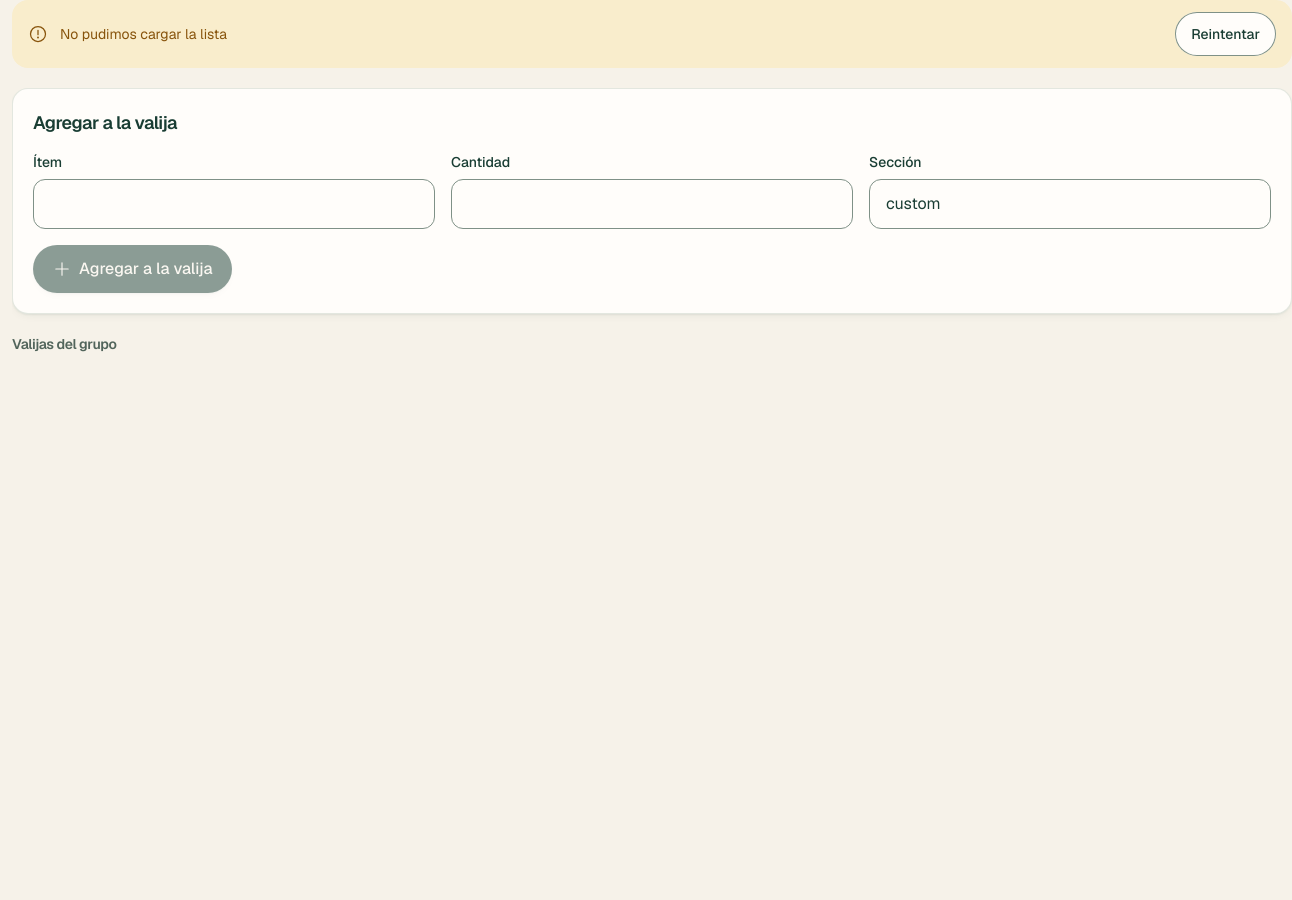
it: shows an inline error with a retry when the packing list fails
Expected: the message shows "No pudimos cargar la lista", [60,25,227,43]
Click the button "Reintentar".
click(1226, 34)  # box [1175,12,1276,56]
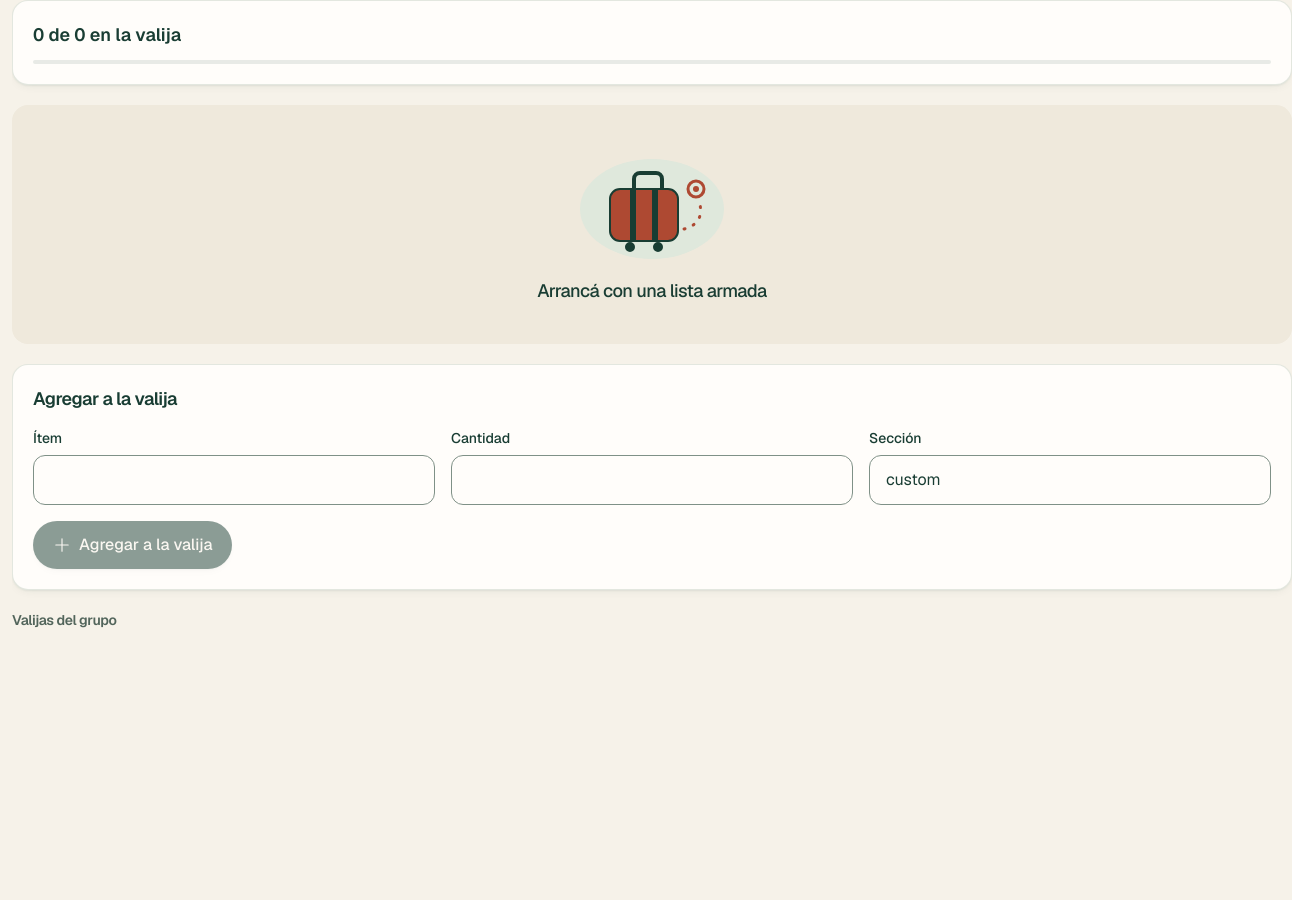
Expected: the text "Arrancá con una lista armada" is shown, [537,277,767,304]
